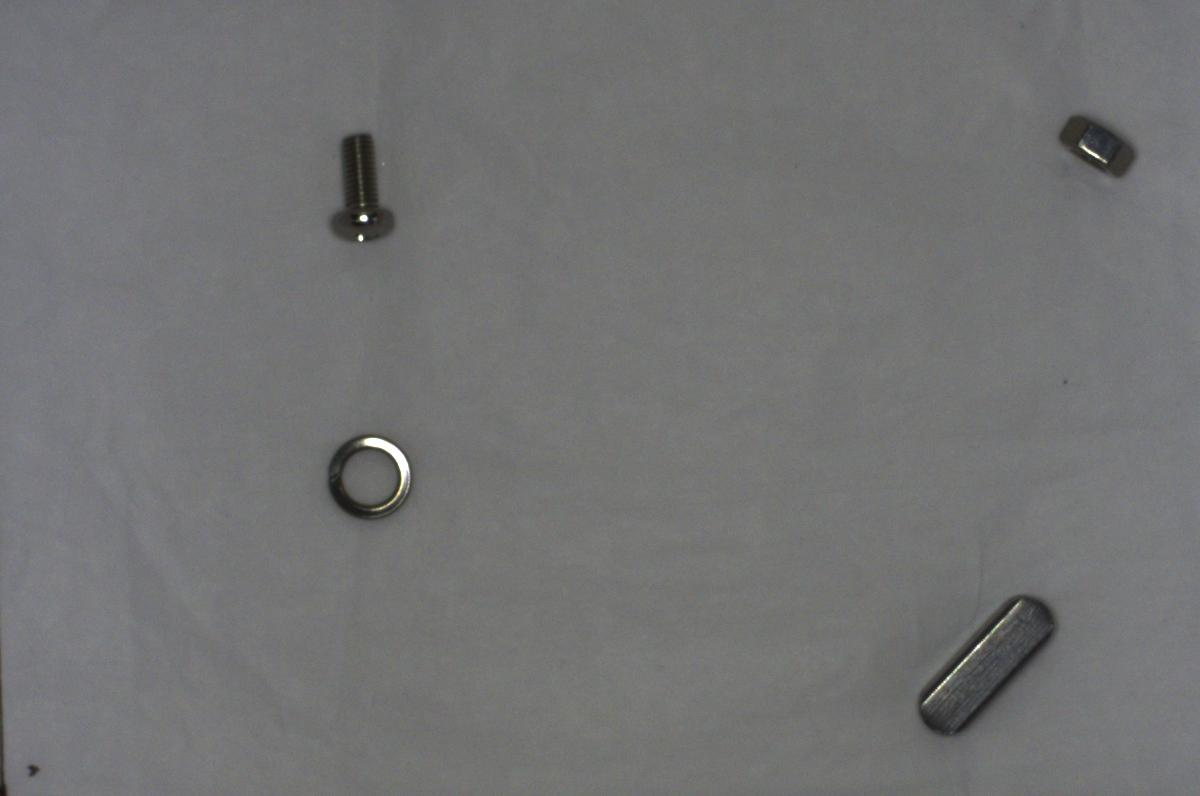Hexagon nut: (1046, 101, 1139, 185)
Keybar: (908, 580, 1061, 734)
Round head screw: (325, 122, 400, 245)
Spring washer: (320, 422, 415, 521)
